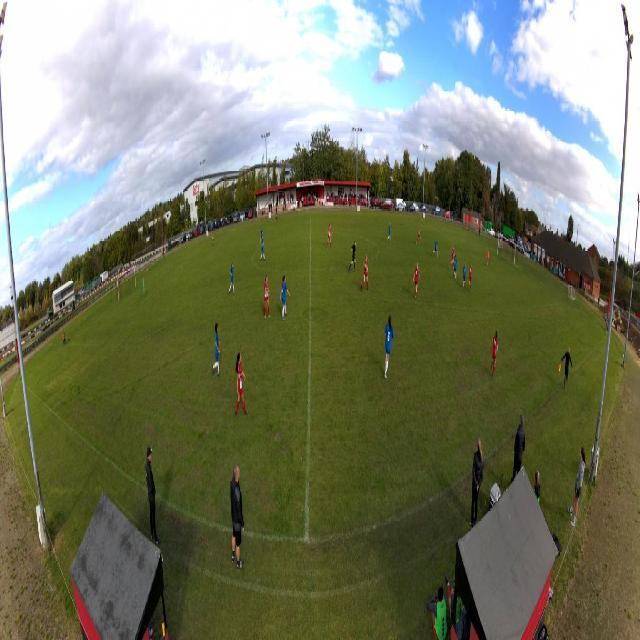player: (235, 352, 249, 416), (384, 312, 394, 380), (280, 275, 291, 323), (212, 322, 221, 378), (490, 330, 499, 379), (360, 252, 370, 292), (264, 274, 272, 318), (412, 262, 420, 299), (228, 261, 236, 297), (348, 240, 357, 272), (326, 222, 333, 249), (260, 235, 266, 261), (450, 245, 456, 270), (432, 237, 439, 257), (468, 262, 472, 291), (454, 253, 458, 281), (387, 221, 392, 243), (463, 262, 467, 287), (416, 226, 421, 245), (486, 247, 490, 266), (259, 226, 263, 244), (143, 275, 146, 296), (212, 231, 214, 247)
